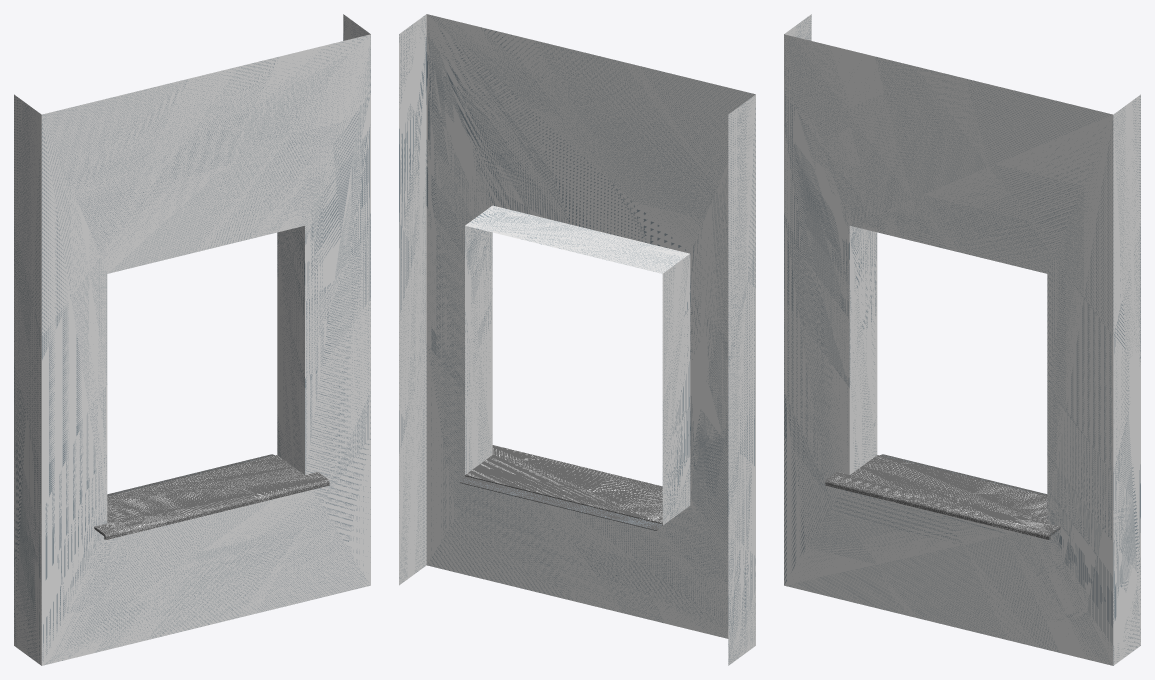
The model's file is WindowBlock_os_[250x400]_150x181x[090].dae.
3 views of the same model, side by side, from view 1: azimuth 30°, elevation 25°; view 2: azimuth 150°, elevation 25°; view 3: azimuth 330°, elevation 25° (orthographic).
Visible parts, largest first — view 1: group_2 (×2), group_1; view 2: group_2 (×2), group_1 (×2); view 3: group_2 (×2), group_1.
Boxes of the visible parts, left/top/right/bottom form: group_2 (×2): left=14, top=14, right=370, bottom=665; group_1: left=94, top=455, right=329, bottom=539; group_2 (×2): left=399, top=14, right=755, bottom=665; group_1 (×2): left=459, top=445, right=662, bottom=530; group_2 (×2): left=784, top=14, right=1140, bottom=665; group_1: left=825, top=455, right=1059, bottom=539.
Size of the model in its own units: 98.43 by 23.03 by 157.
